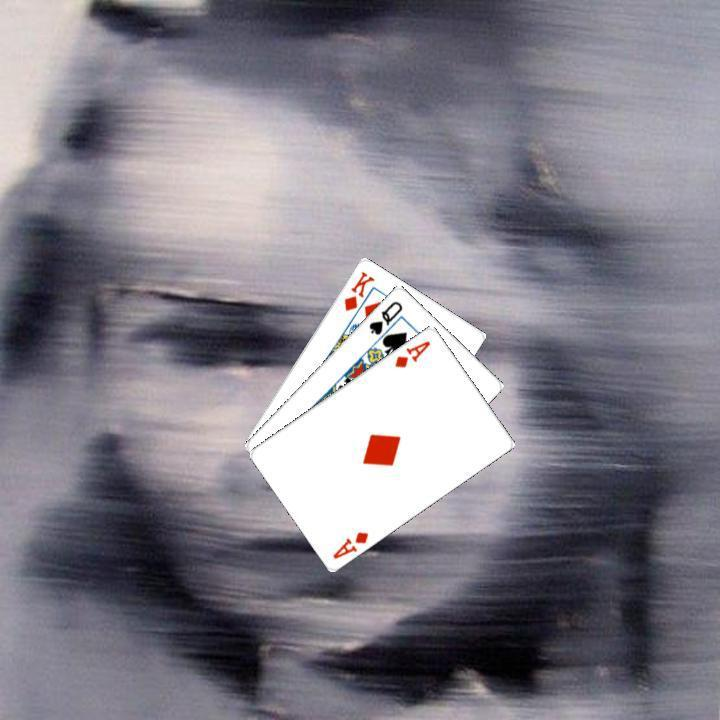A: (328, 527, 370, 561), (390, 336, 433, 369)
K: (339, 267, 377, 313)
Q: (364, 296, 405, 337)
